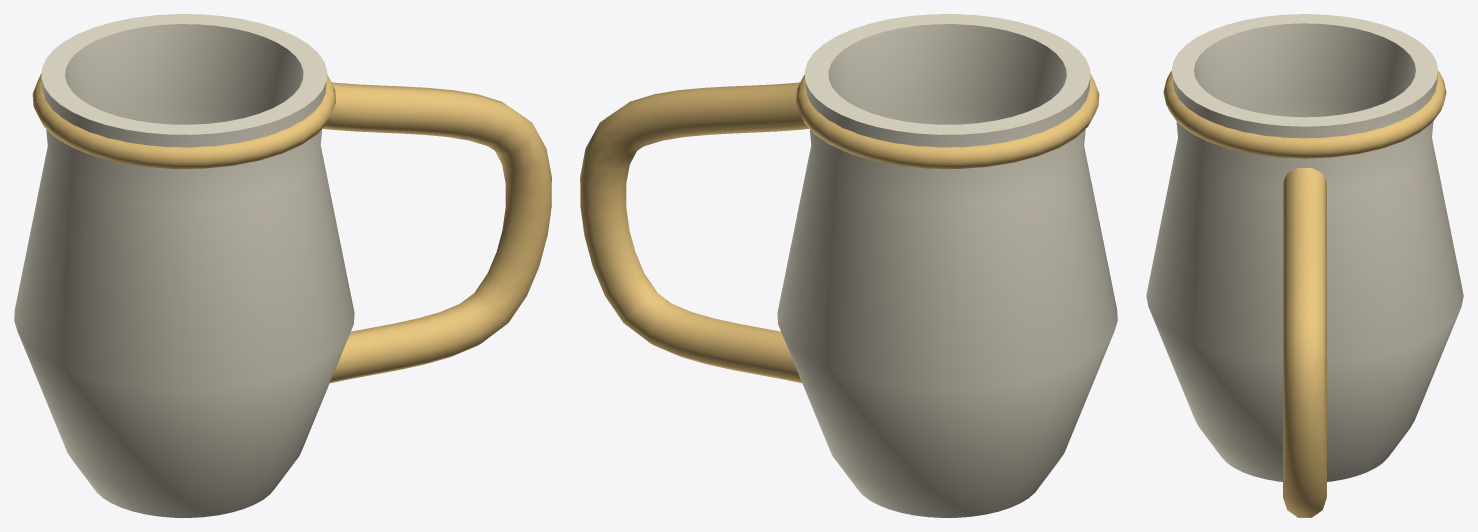
File: royal-court-and-throne-palace-ceramic-pitcher-37e34ea7__29410.glb
3 views of the same model, side by side, from view 1: azimuth 30°, elevation 25°; view 2: azimuth 150°, elevation 25°; view 3: azimuth 270°, elevation 25° (orthographic). The views are drawn at different scales.
Visible parts, largest first — view 1: ceramic-pitcher; view 2: ceramic-pitcher; view 3: ceramic-pitcher.
Boxes of the visible parts, x1,y1,x2,y2 form: ceramic-pitcher: (14, 14, 551, 517); ceramic-pitcher: (580, 14, 1117, 517); ceramic-pitcher: (1146, 14, 1463, 517).
Bounding box in the file's own units: 0.4504 × 0.34 × 0.26.
